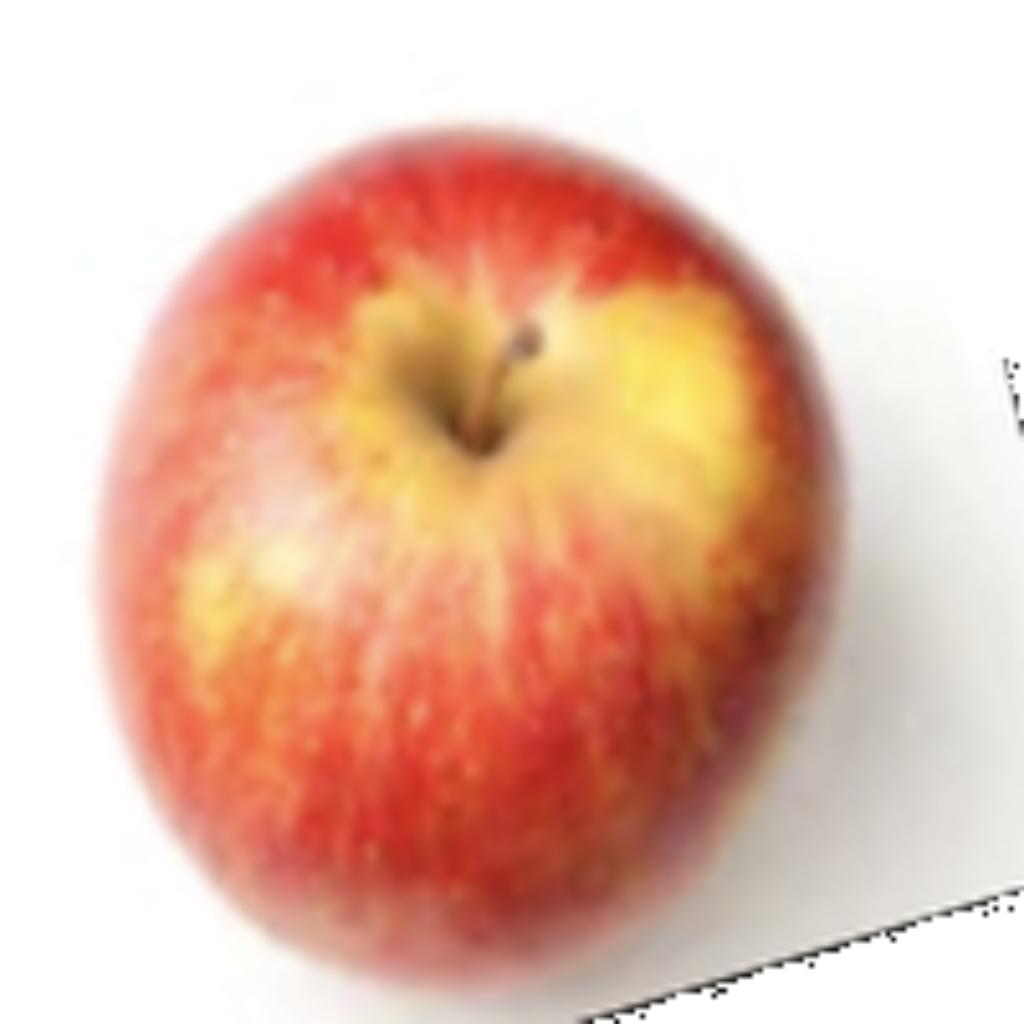apple: (77, 108, 927, 1019)
